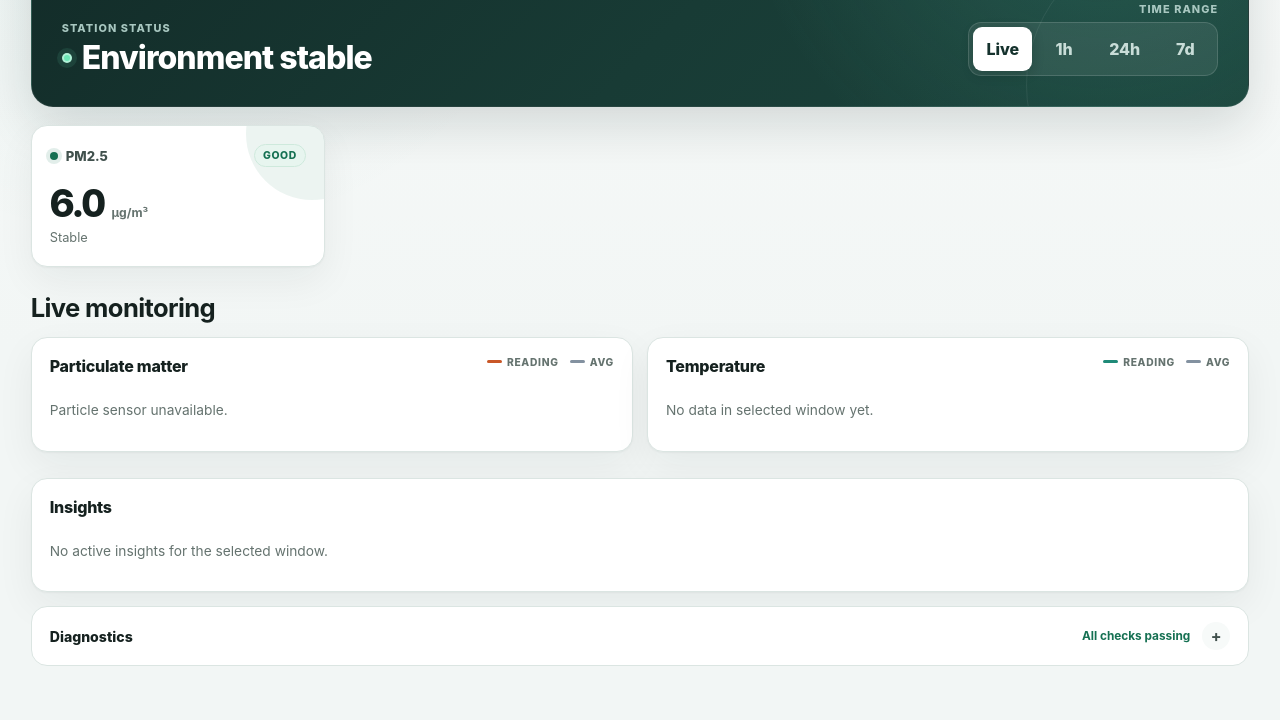
Scenario: DashboardView › shows current checks before the operations timeline
(page scrolled)
Click the text "Diagnostics" at x=91, y=636, box [50,628,133,645]
(page scrolled)
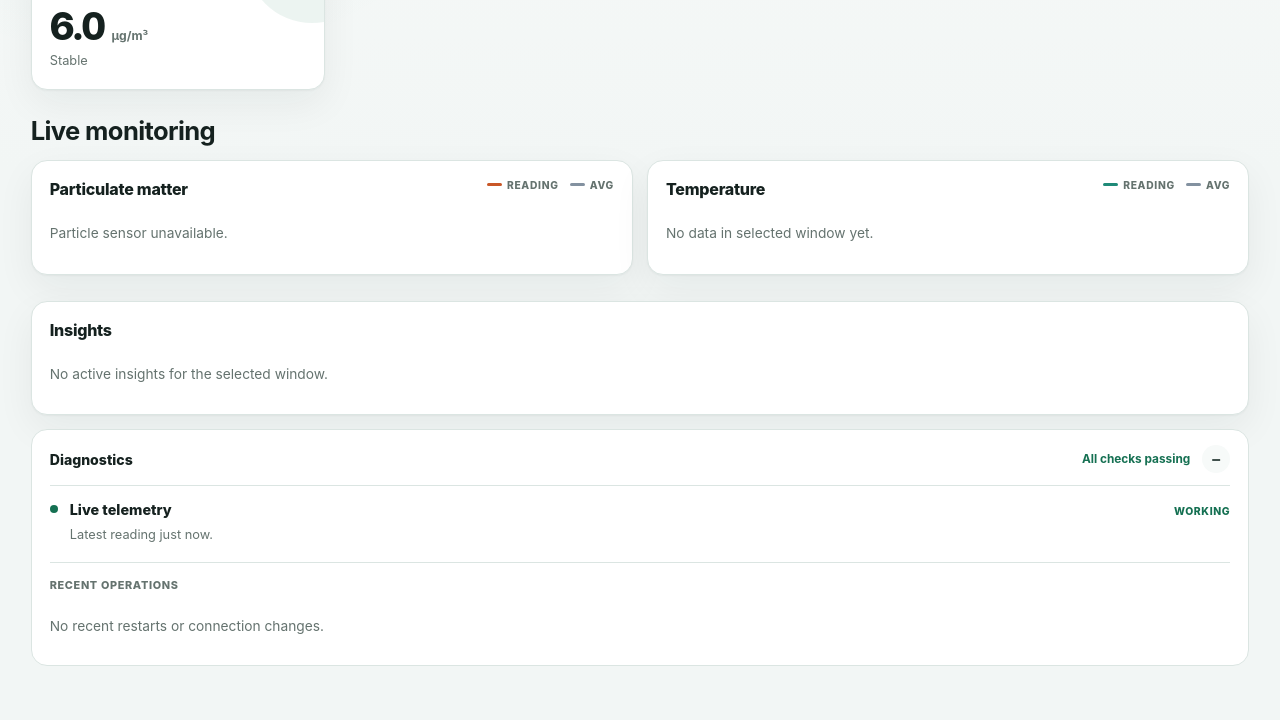
Check: the text "Live telemetry" is shown, box [70,500,172,520]
Check: the text "Latest reading just now." is shown, box [70,527,213,542]
Check: the text "Recent operations" is shown, box [50,578,178,592]
